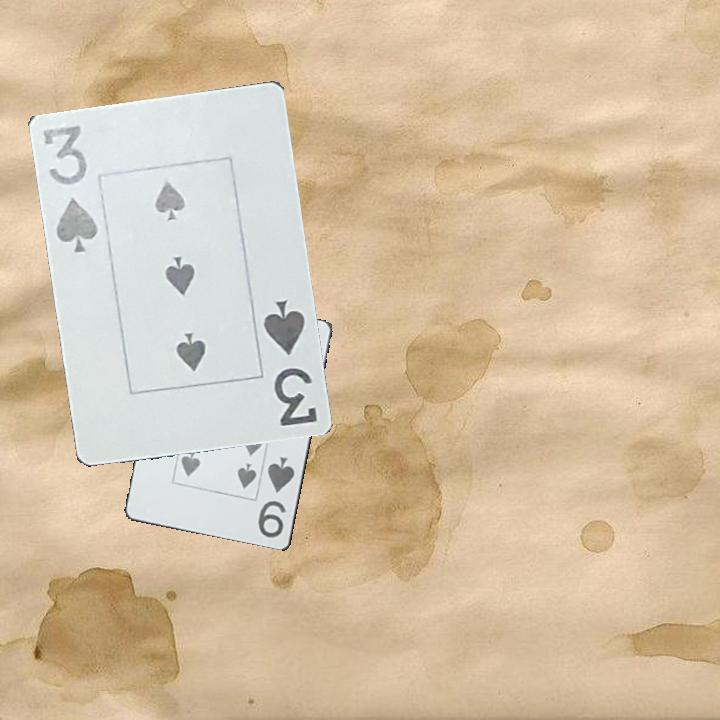3s: (39, 118, 101, 256), (259, 295, 320, 429)
9s: (255, 453, 298, 541)
